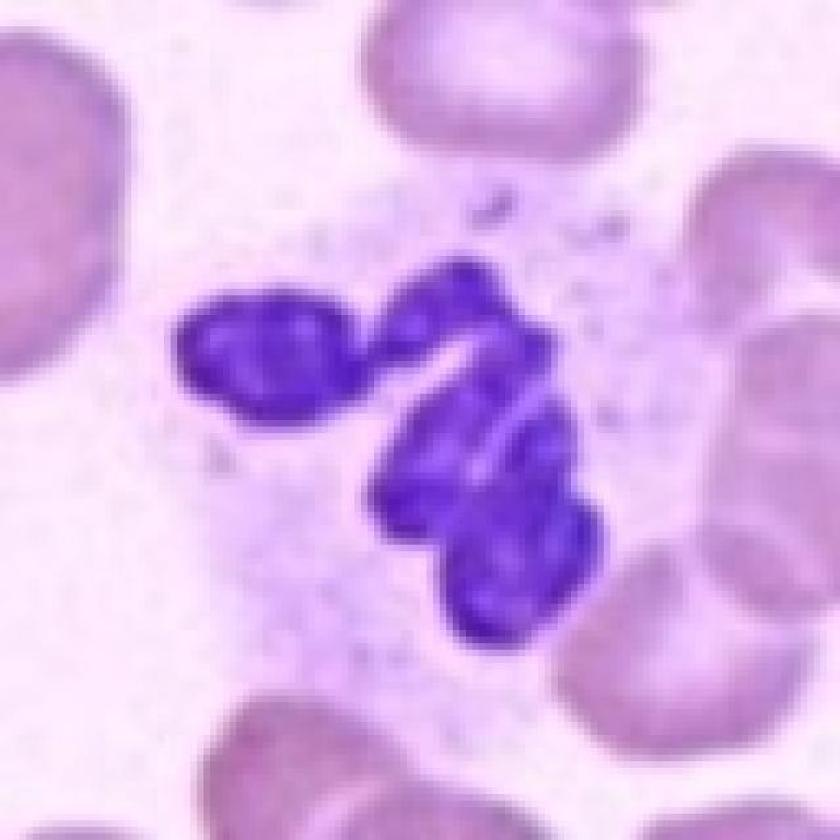neutrophil: (101, 162, 744, 765)
